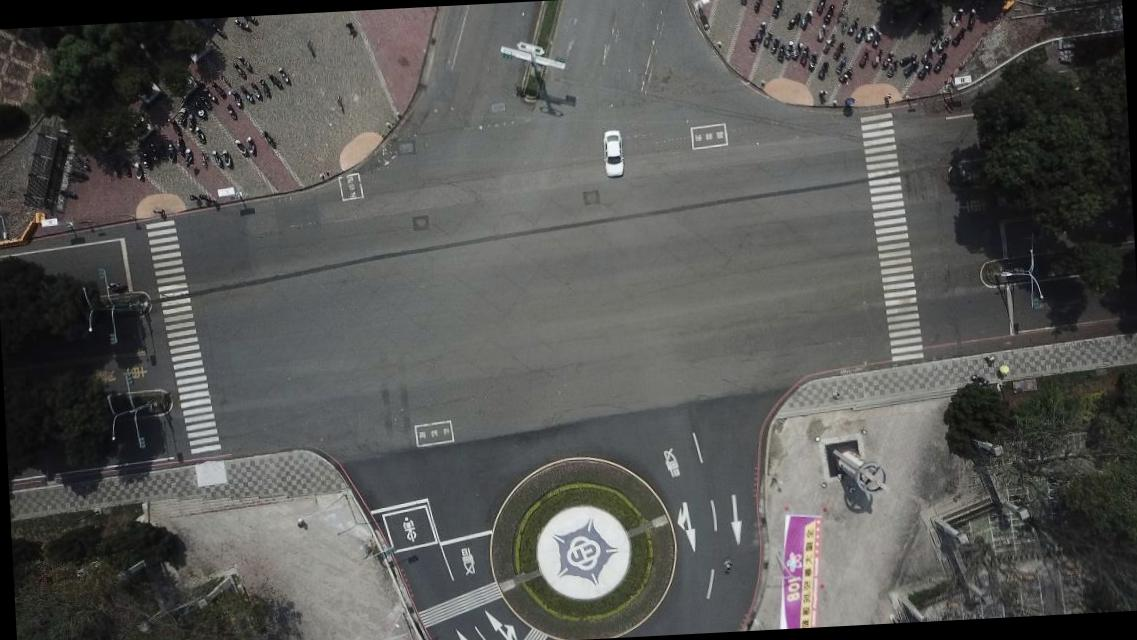vehicle: (602, 131, 622, 178)
